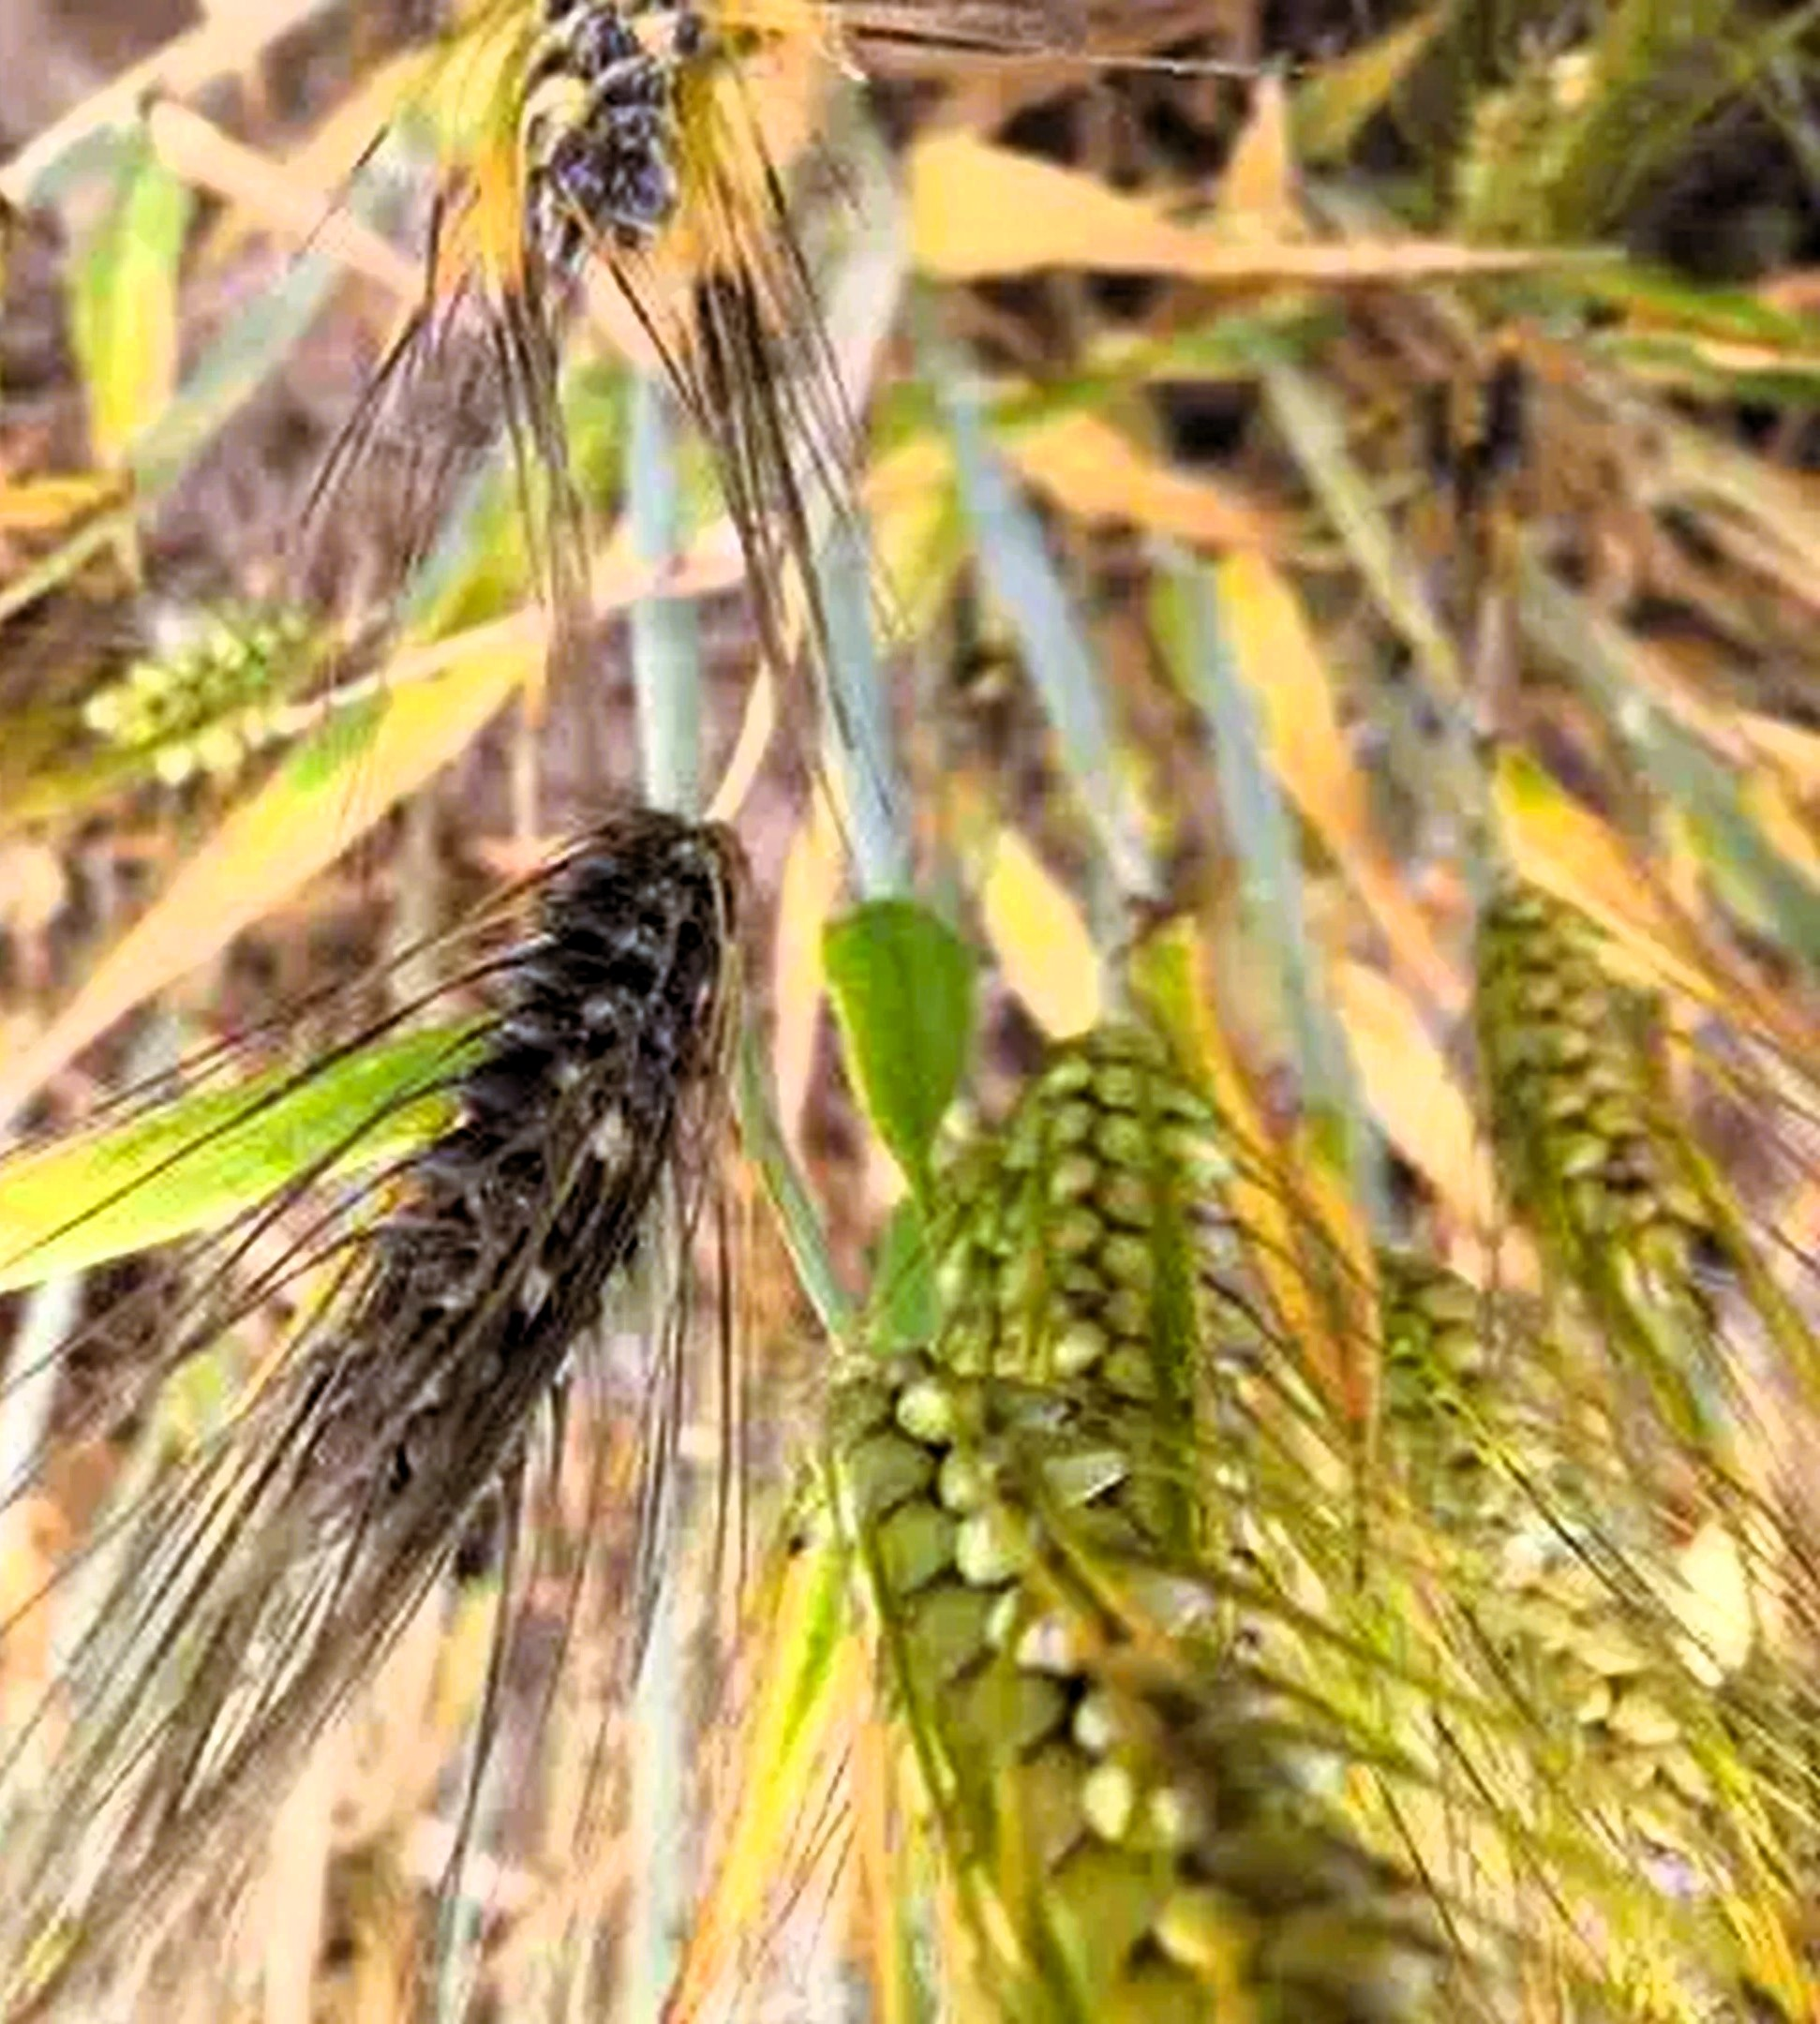Wheat Loose Smut: (221, 813, 782, 1581)
